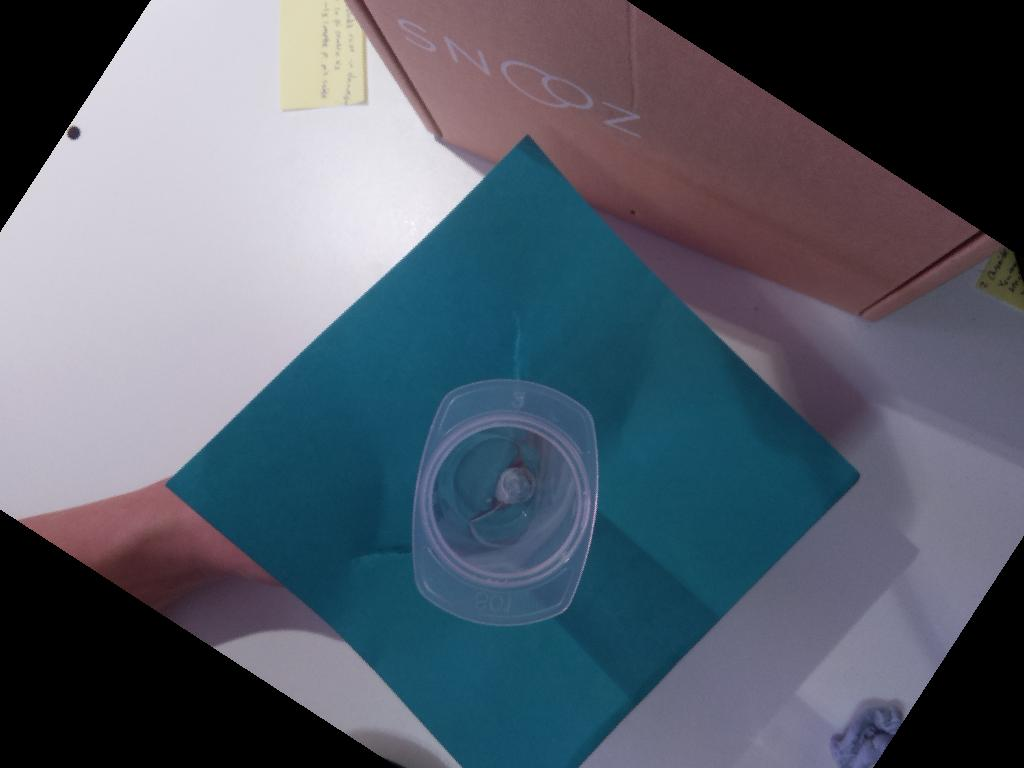clean: (409, 376, 602, 627)
